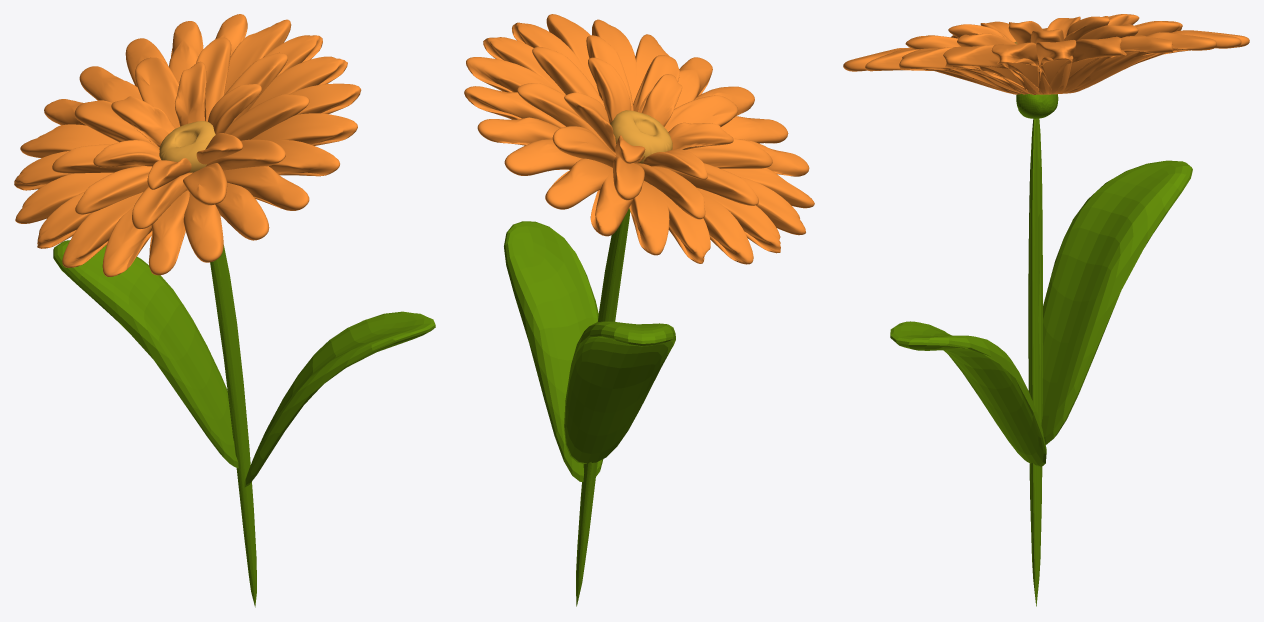
File: Affection_Calendula.glb
3 renders of one model, left to right at view 1: azimuth 30°, elevation 25°; view 2: azimuth 150°, elevation 25°; view 3: azimuth 270°, elevation 25°, orthographic. The views are drawn at different scales.
Visible parts, largest first — view 1: Cube.002; view 2: Cube.002; view 3: Cube.002.
Boxes of the visible parts, bbox=[...] form: Cube.002: bbox=[14, 14, 435, 607]; Cube.002: bbox=[464, 14, 814, 606]; Cube.002: bbox=[843, 14, 1249, 606].
Bounding box in the file's own units: 4.61 × 7.32 × 4.52.
